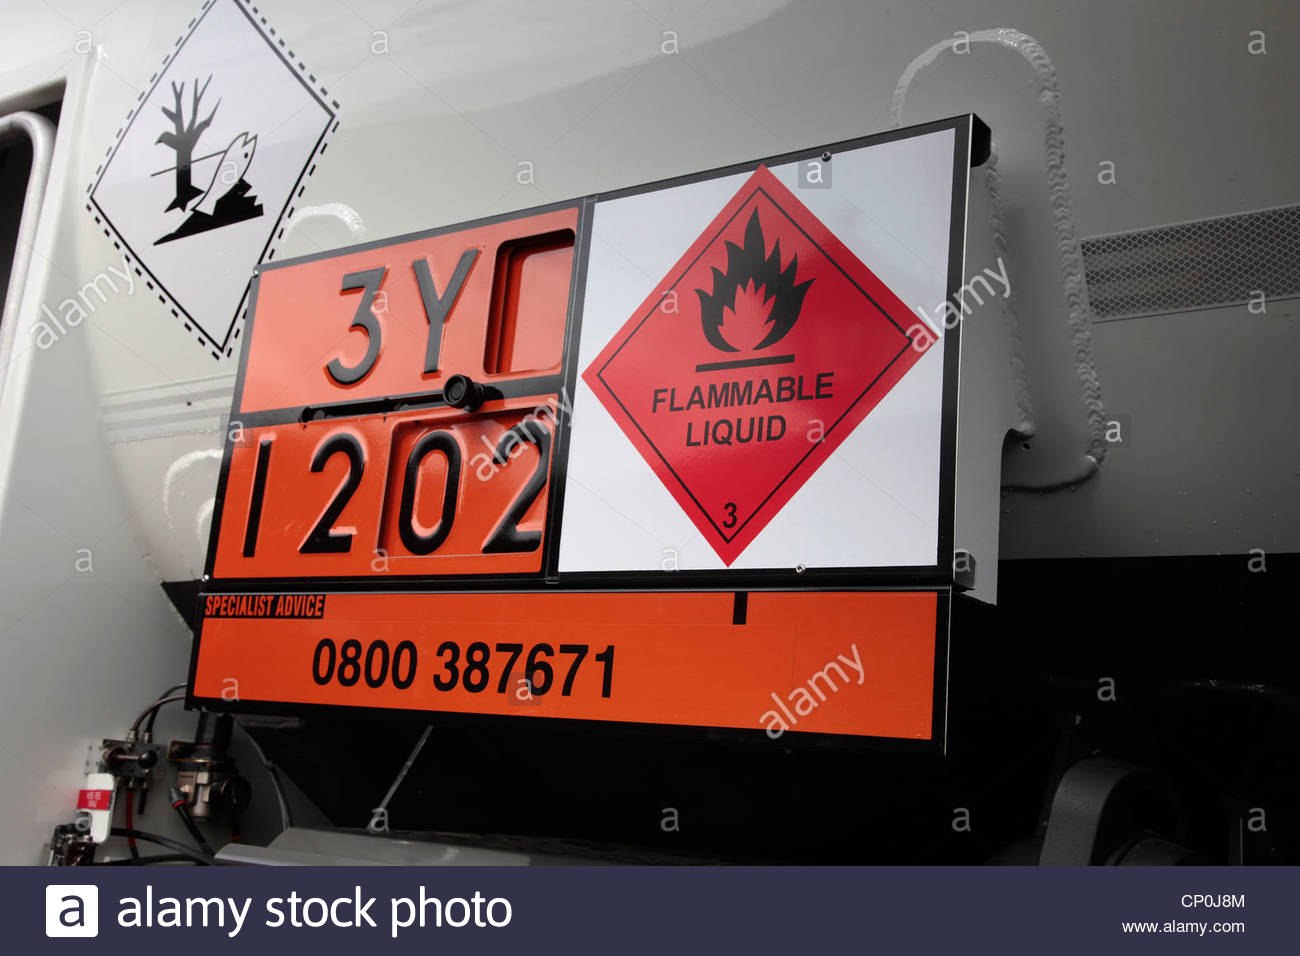FlammableLiquid: (595, 177, 917, 536)
